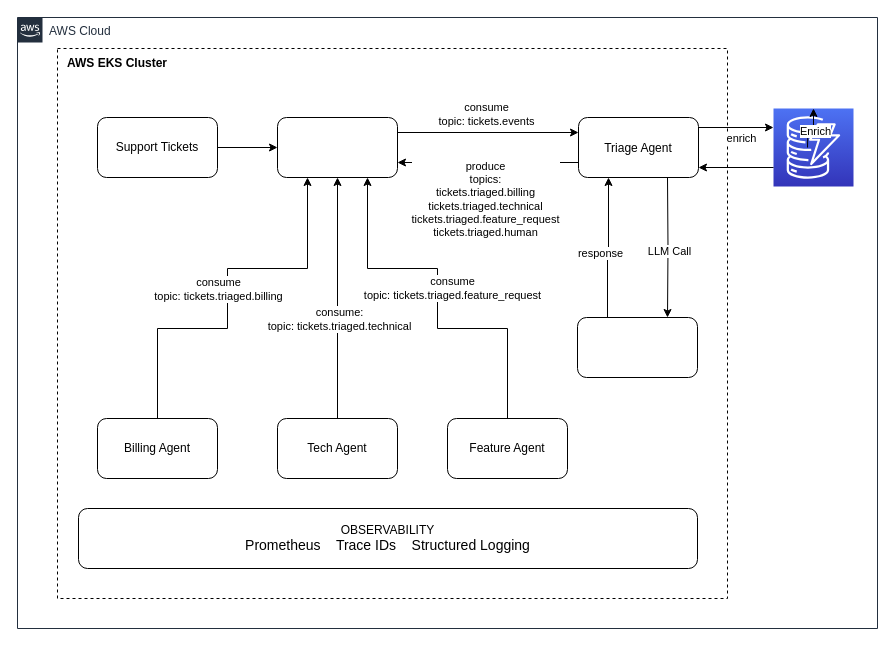
Image size: 895x646. Some labels were removed from this diagram. Each missing label, with the centre of its shape:
"Amazon DynamoDB" belongs at point 813,147.
"Kafka (CFK)" belongs at point 337,147.
"Ollama LLM" belongs at point 637,347.
